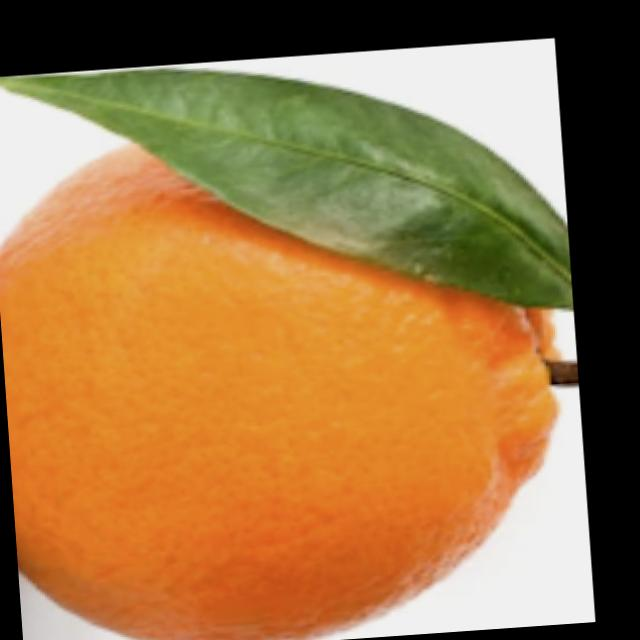orange: (0, 106, 584, 640)
